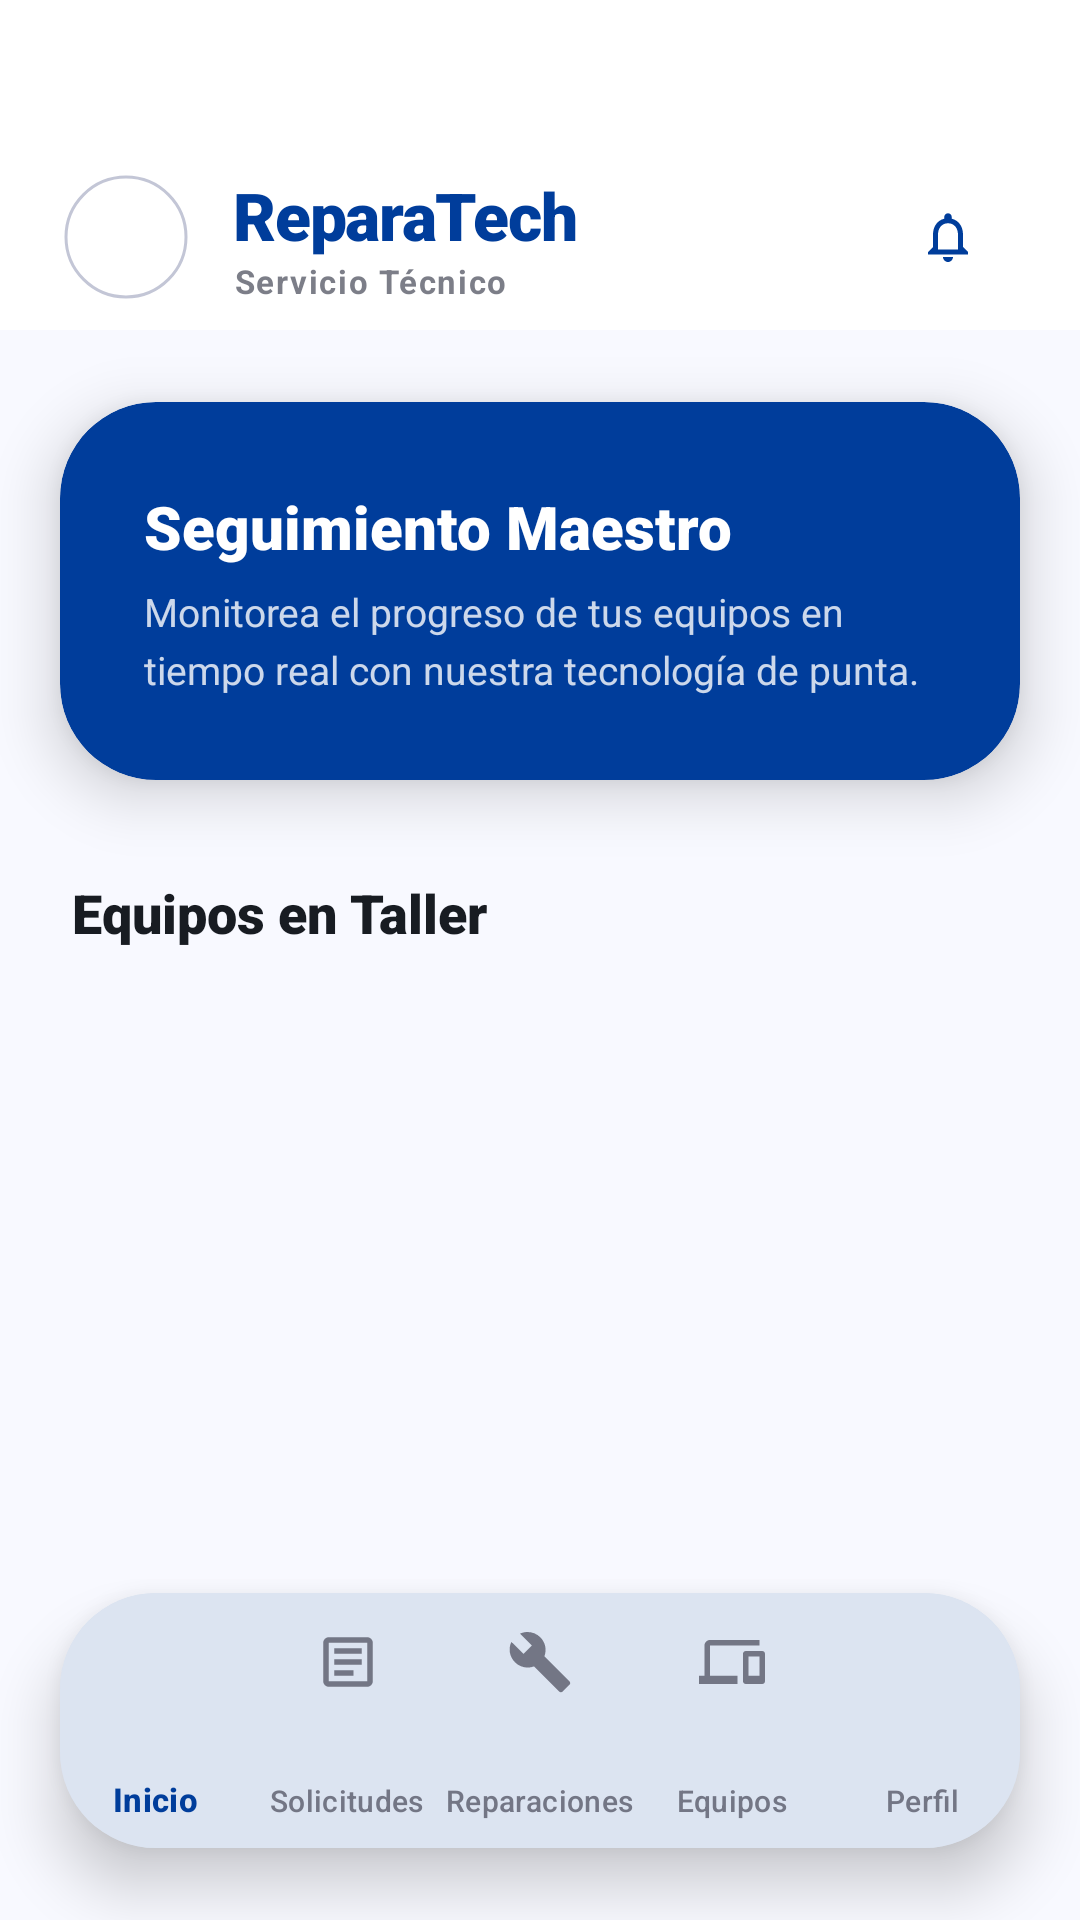

Screen size 1080w x 1920h. Icon name, then its box in pixels as (x1, y1, x2, y2):
notifications none: (928, 213, 968, 262)
